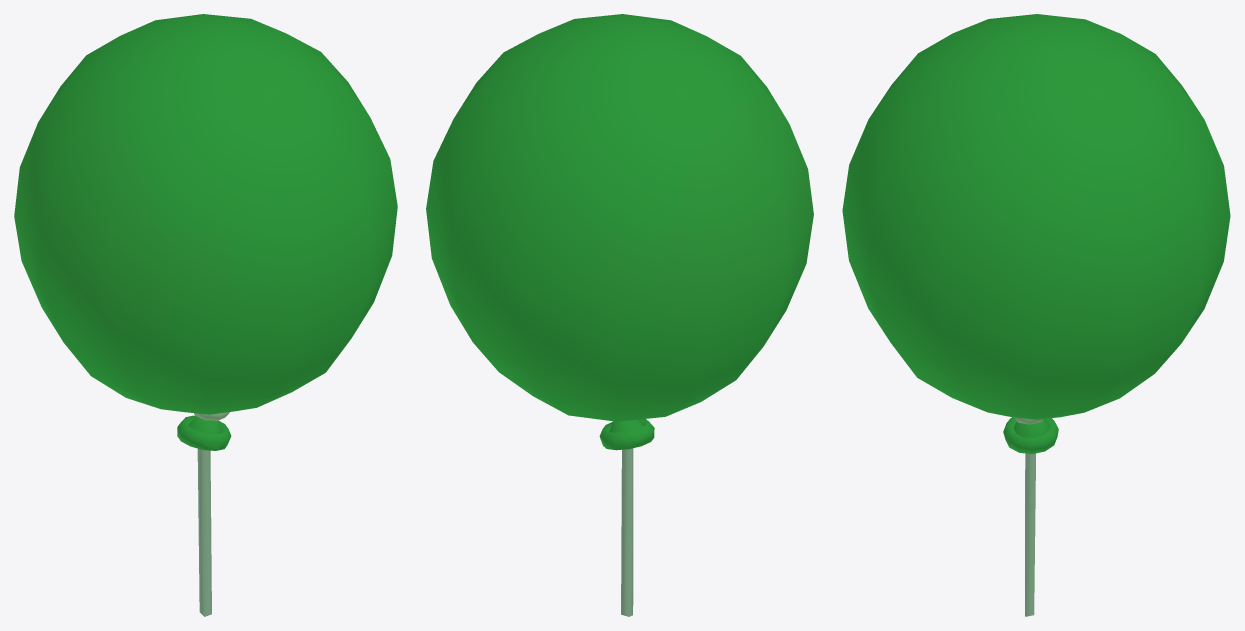
File: balloon-1.glb
The picture shows the model from 3 angles, left to right: view 1: azimuth 30°, elevation 25°; view 2: azimuth 150°, elevation 25°; view 3: azimuth 270°, elevation 25°; orthographic projection.
Size of the model in its own units: 5.36 by 8.94 by 5.36.
Materials: 1 (1 with a texture image).
